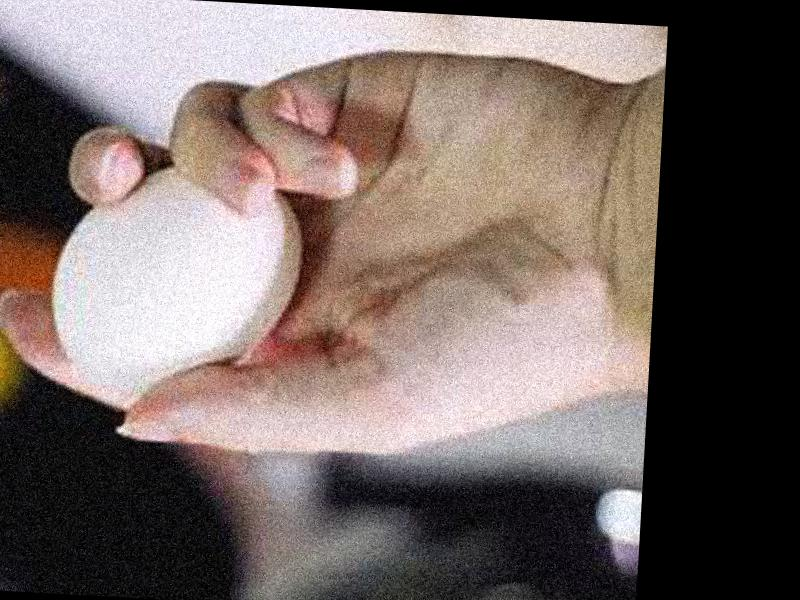Eggs: (44, 162, 303, 402)
